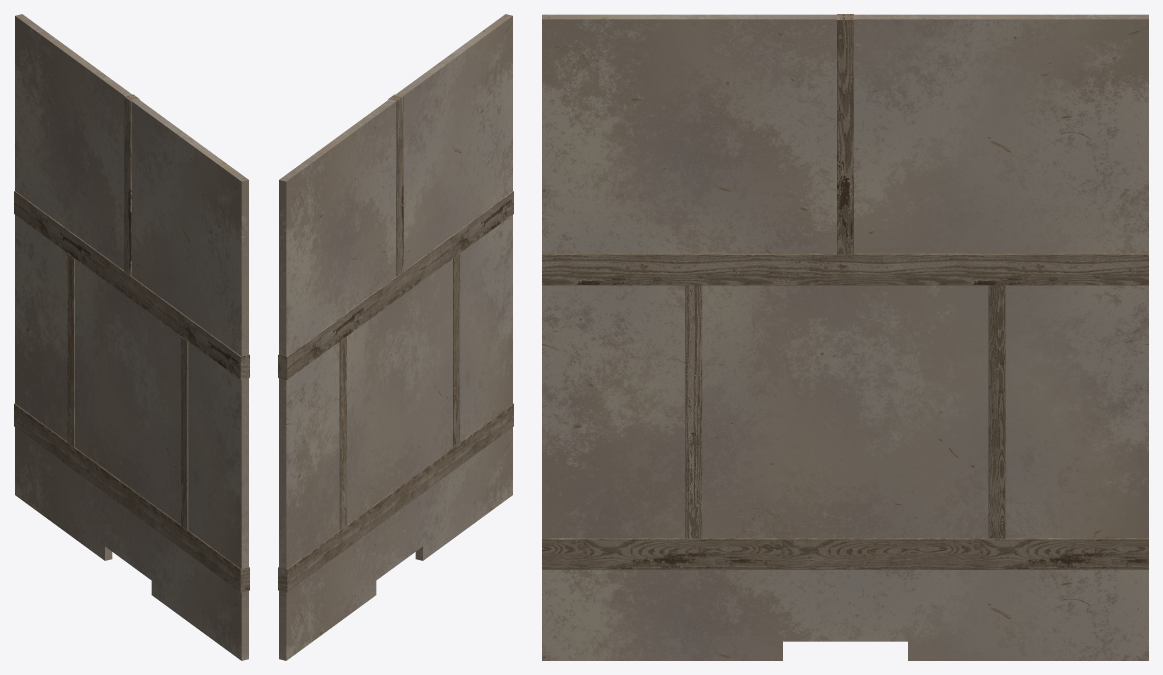
File: SM_JWD_Wall03a.fbx
3 views of the same model, side by side, from view 1: azimuth 30°, elevation 25°; view 2: azimuth 150°, elevation 25°; view 3: azimuth 270°, elevation 25° (orthographic). The views are drawn at different scales.
Parts seen in each view (by area): view 1: SM_JWD_Wall03a; view 2: SM_JWD_Wall03a; view 3: SM_JWD_Wall03a.
Boxes of the visible parts, x1,y1,x2,y2 form: SM_JWD_Wall03a: (14, 14, 249, 660); SM_JWD_Wall03a: (278, 14, 513, 660); SM_JWD_Wall03a: (542, 14, 1148, 660).
Bounding box in the file's own units: 7 × 300 × 350.
2 materials, 2 textured.
